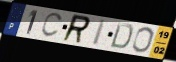1: (26, 9, 38, 35)
C: (40, 12, 65, 39)
D: (109, 22, 135, 51)
I: (91, 19, 108, 47)
O: (131, 26, 155, 54)
R: (61, 13, 92, 45)
